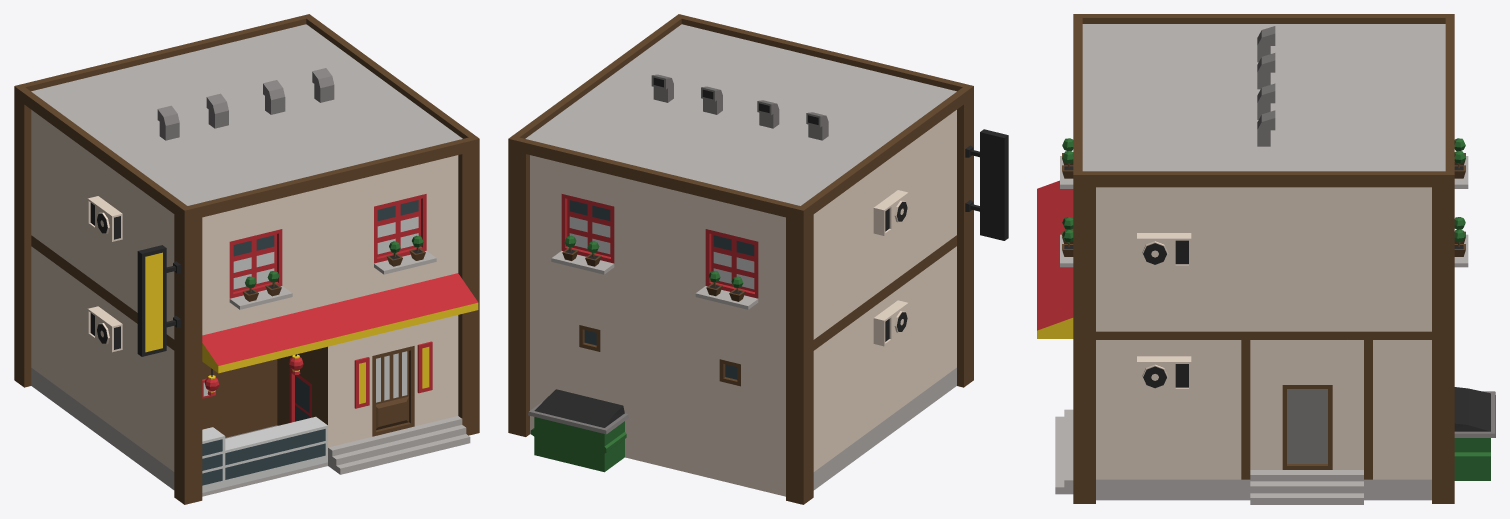
The model's file is buildings_building-shop-china.fbx.
The picture shows the model from 3 angles, left to right: view 1: azimuth 30°, elevation 25°; view 2: azimuth 150°, elevation 25°; view 3: azimuth 270°, elevation 25°; orthographic projection. The views are drawn at different scales.
Visible parts, largest first — view 1: buildings_building_shop_china; view 2: buildings_building_shop_china; view 3: buildings_building_shop_china.
Boxes of the visible parts, x1,y1,x2,y2 form: buildings_building_shop_china: (14,14,479,504); buildings_building_shop_china: (508,14,1008,504); buildings_building_shop_china: (1037,14,1495,504).
Size of the model in its own units: 191 by 169 by 200.
